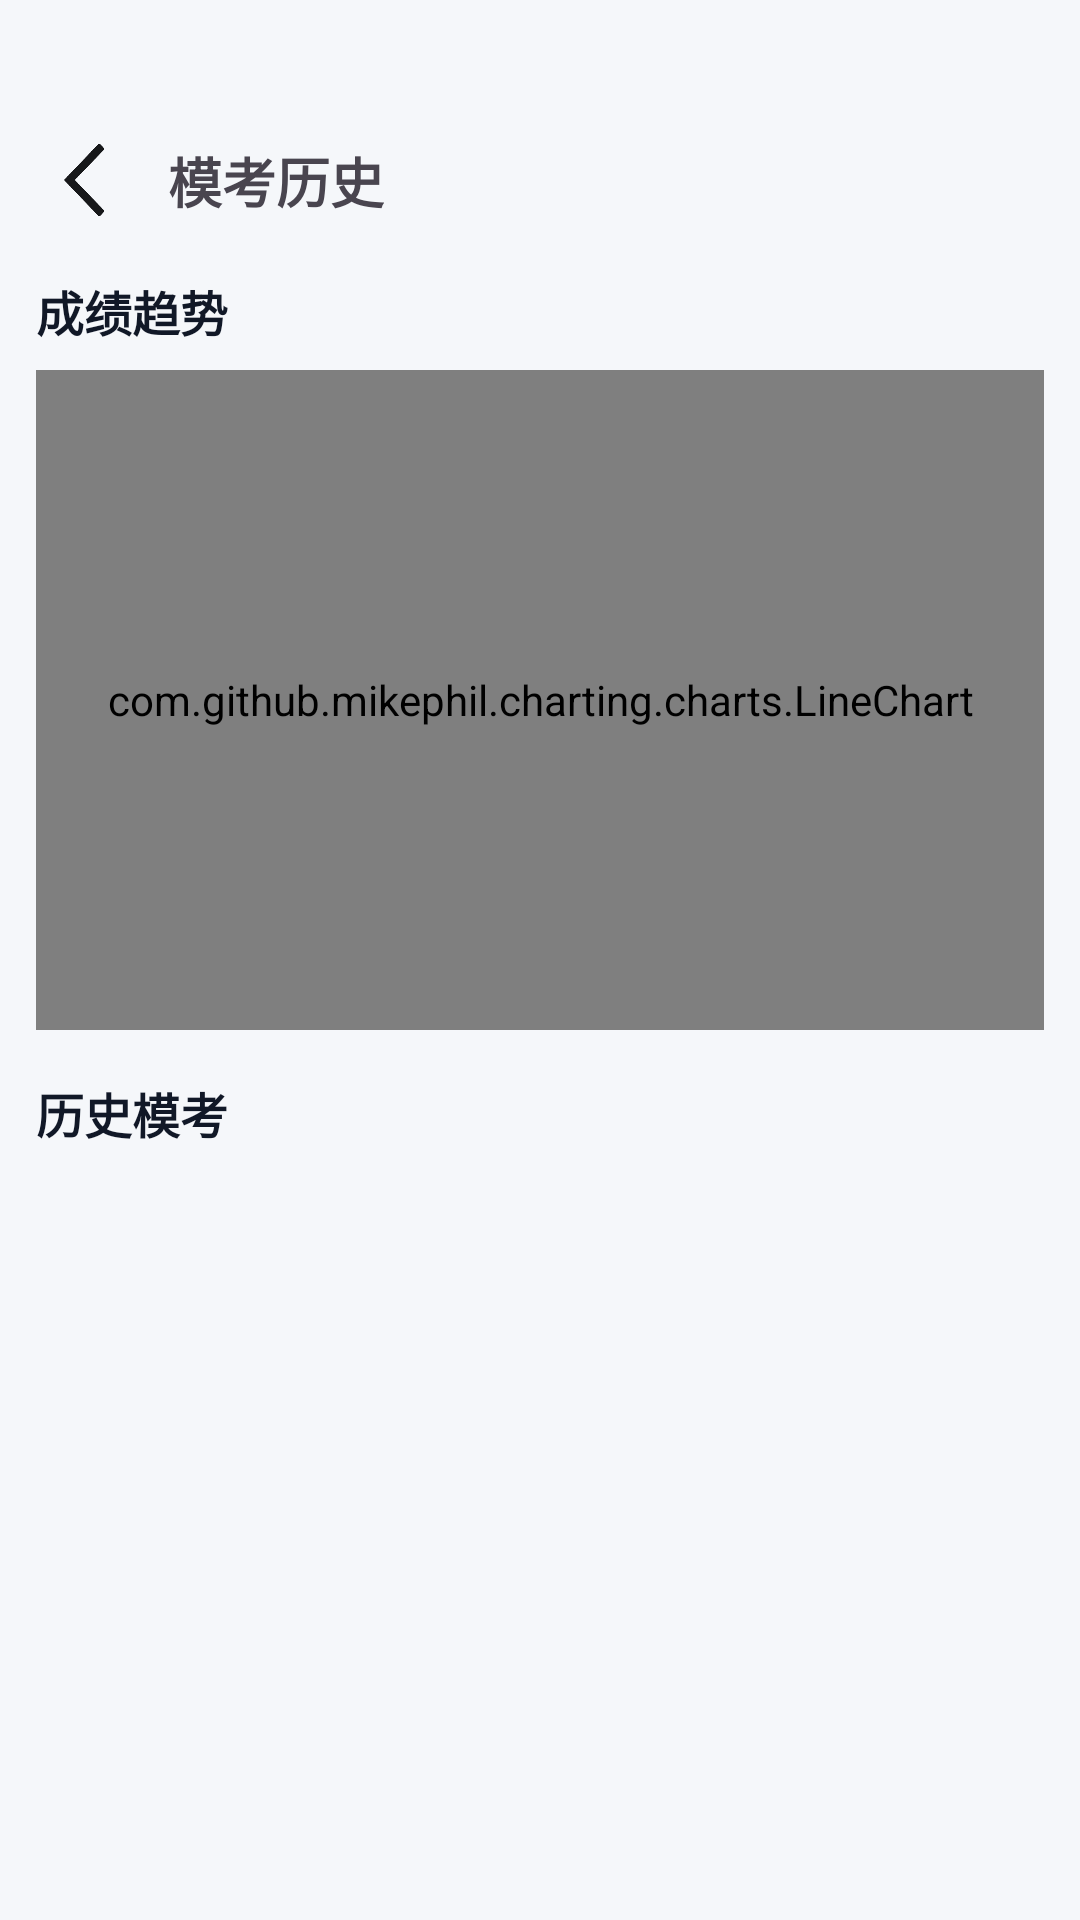

Screen size 1080*1920. Icon name, then its box in pixels as (x1, y1, x2, y2):
back: (64, 144, 104, 216)
